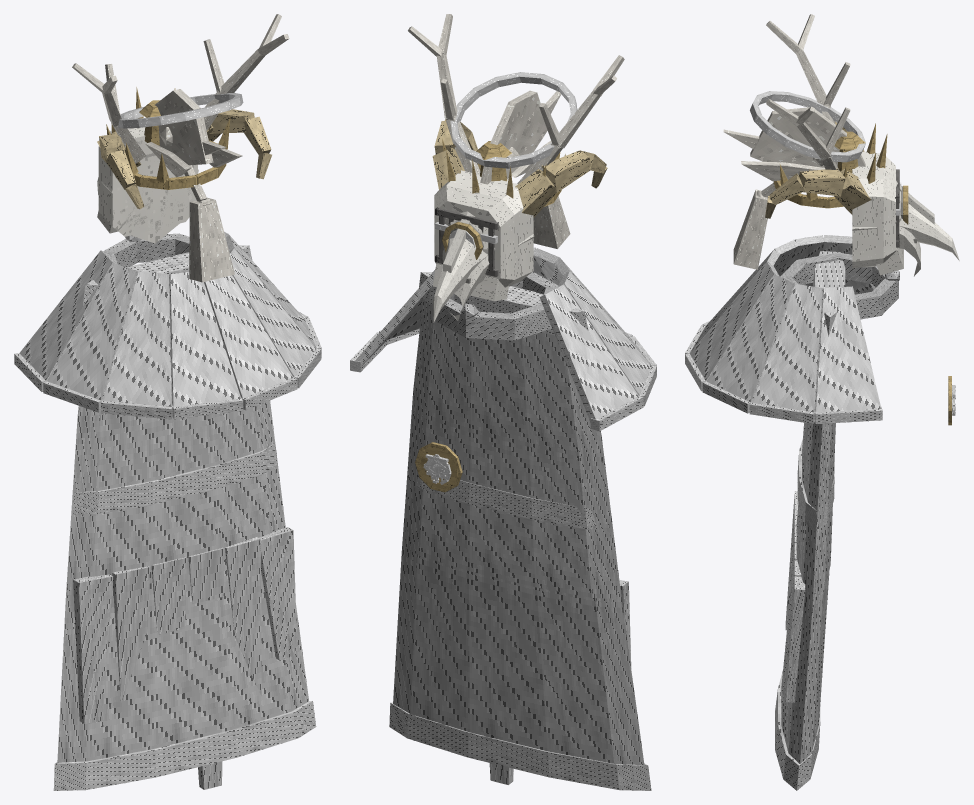
The model's file is shrike_kit.gltf.
The picture shows the model from 3 angles, left to right: view 1: azimuth 30°, elevation 25°; view 2: azimuth 150°, elevation 25°; view 3: azimuth 270°, elevation 25°; orthographic projection. The views are drawn at different scales.
Parts seen in each view (by area): view 1: cloak_long, cloak_short, cloak_tattered, cloak_long_trim, cloak_tattered_trim, cloak_short_trim, crest_tassel, crest_antlers, horns, crest_fin, mask_shrike, mask_visor (+9 smaller); view 2: cloak_tattered, cloak_long, cloak_short, cloak_long_trim, mask_visor, horns, crest_antlers, cloak_scarf, cloak_tattered_trim, crest_halo, crest_fin, mask_shrike (+7 smaller); view 3: cloak_short, cloak_long, cloak_tattered, mask_visor, crest_antlers, cloak_short_trim, cloak_scarf, cloak_long_trim, crest_fin, horns, crest_halo, crest_tassel (+6 smaller).
Boxes of the visible parts, left/top/right/bottom form: cloak_long: left=57, top=400, right=308, bottom=762; cloak_short: left=19, top=231, right=316, bottom=406; cloak_tattered: left=73, top=527, right=297, bottom=789; cloak_long_trim: left=53, top=245, right=316, bottom=790; cloak_tattered_trim: left=72, top=443, right=277, bottom=514; cloak_short_trim: left=14, top=235, right=321, bottom=419; crest_tassel: left=160, top=127, right=234, bottom=282; crest_antlers: left=72, top=14, right=289, bottom=163; horns: left=97, top=109, right=271, bottom=209; crest_fin: left=155, top=89, right=213, bottom=165; mask_shrike: left=97, top=142, right=188, bottom=226; mask_visor: left=97, top=127, right=197, bottom=236; cloak_tattered: left=404, top=300, right=631, bottom=784; cloak_long: left=393, top=300, right=644, bottom=765; cloak_short: left=355, top=247, right=651, bottom=422; cloak_long_trim: left=389, top=272, right=651, bottom=790; mask_visor: left=433, top=170, right=533, bottom=301; horns: left=432, top=119, right=607, bottom=217; crest_antlers: left=408, top=14, right=624, bottom=183; cloak_scarf: left=436, top=272, right=558, bottom=340; cloak_tattered_trim: left=416, top=474, right=597, bottom=529; crest_halo: left=450, top=72, right=577, bottom=168; crest_fin: left=480, top=90, right=547, bottom=184; mask_shrike: left=432, top=219, right=488, bottom=322; cloak_short: left=690, top=235, right=881, bottom=412; cloak_long: left=781, top=422, right=829, bottom=763; cloak_tattered: left=785, top=423, right=835, bottom=717; mask_visor: left=852, top=151, right=903, bottom=275; crest_antlers: left=766, top=14, right=850, bottom=170; cloak_short_trim: left=685, top=270, right=899, bottom=424; cloak_scarf: left=780, top=252, right=898, bottom=319; cloak_long_trim: left=775, top=251, right=845, bottom=790; crest_fin: left=750, top=107, right=865, bottom=167; horns: left=765, top=121, right=871, bottom=218; crest_halo: left=750, top=91, right=865, bottom=162; crest_tassel: left=733, top=157, right=823, bottom=269.
Size of the model in its own units: 0.6501 by 1.74 by 0.6186.
41 materials, 41 textured.
